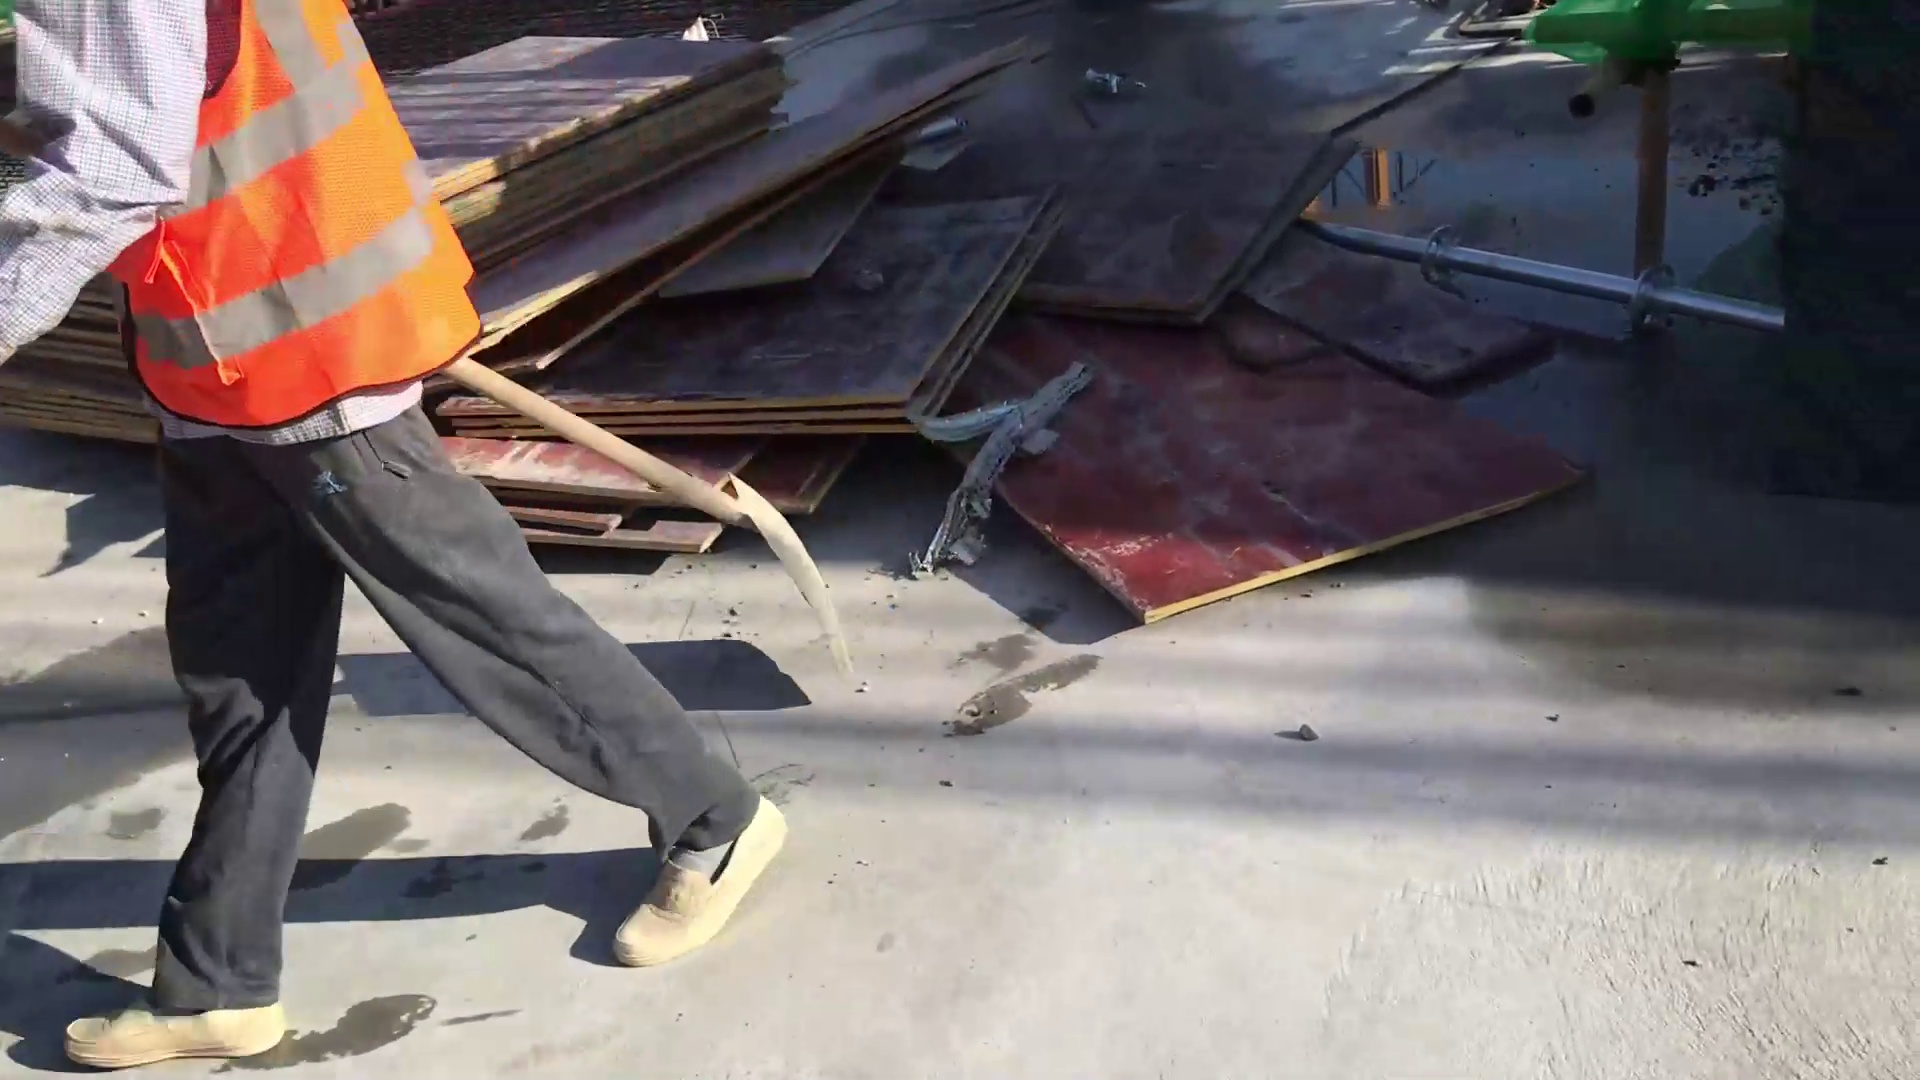person: (10, 1, 828, 1068)
vest: (71, 1, 533, 430)
